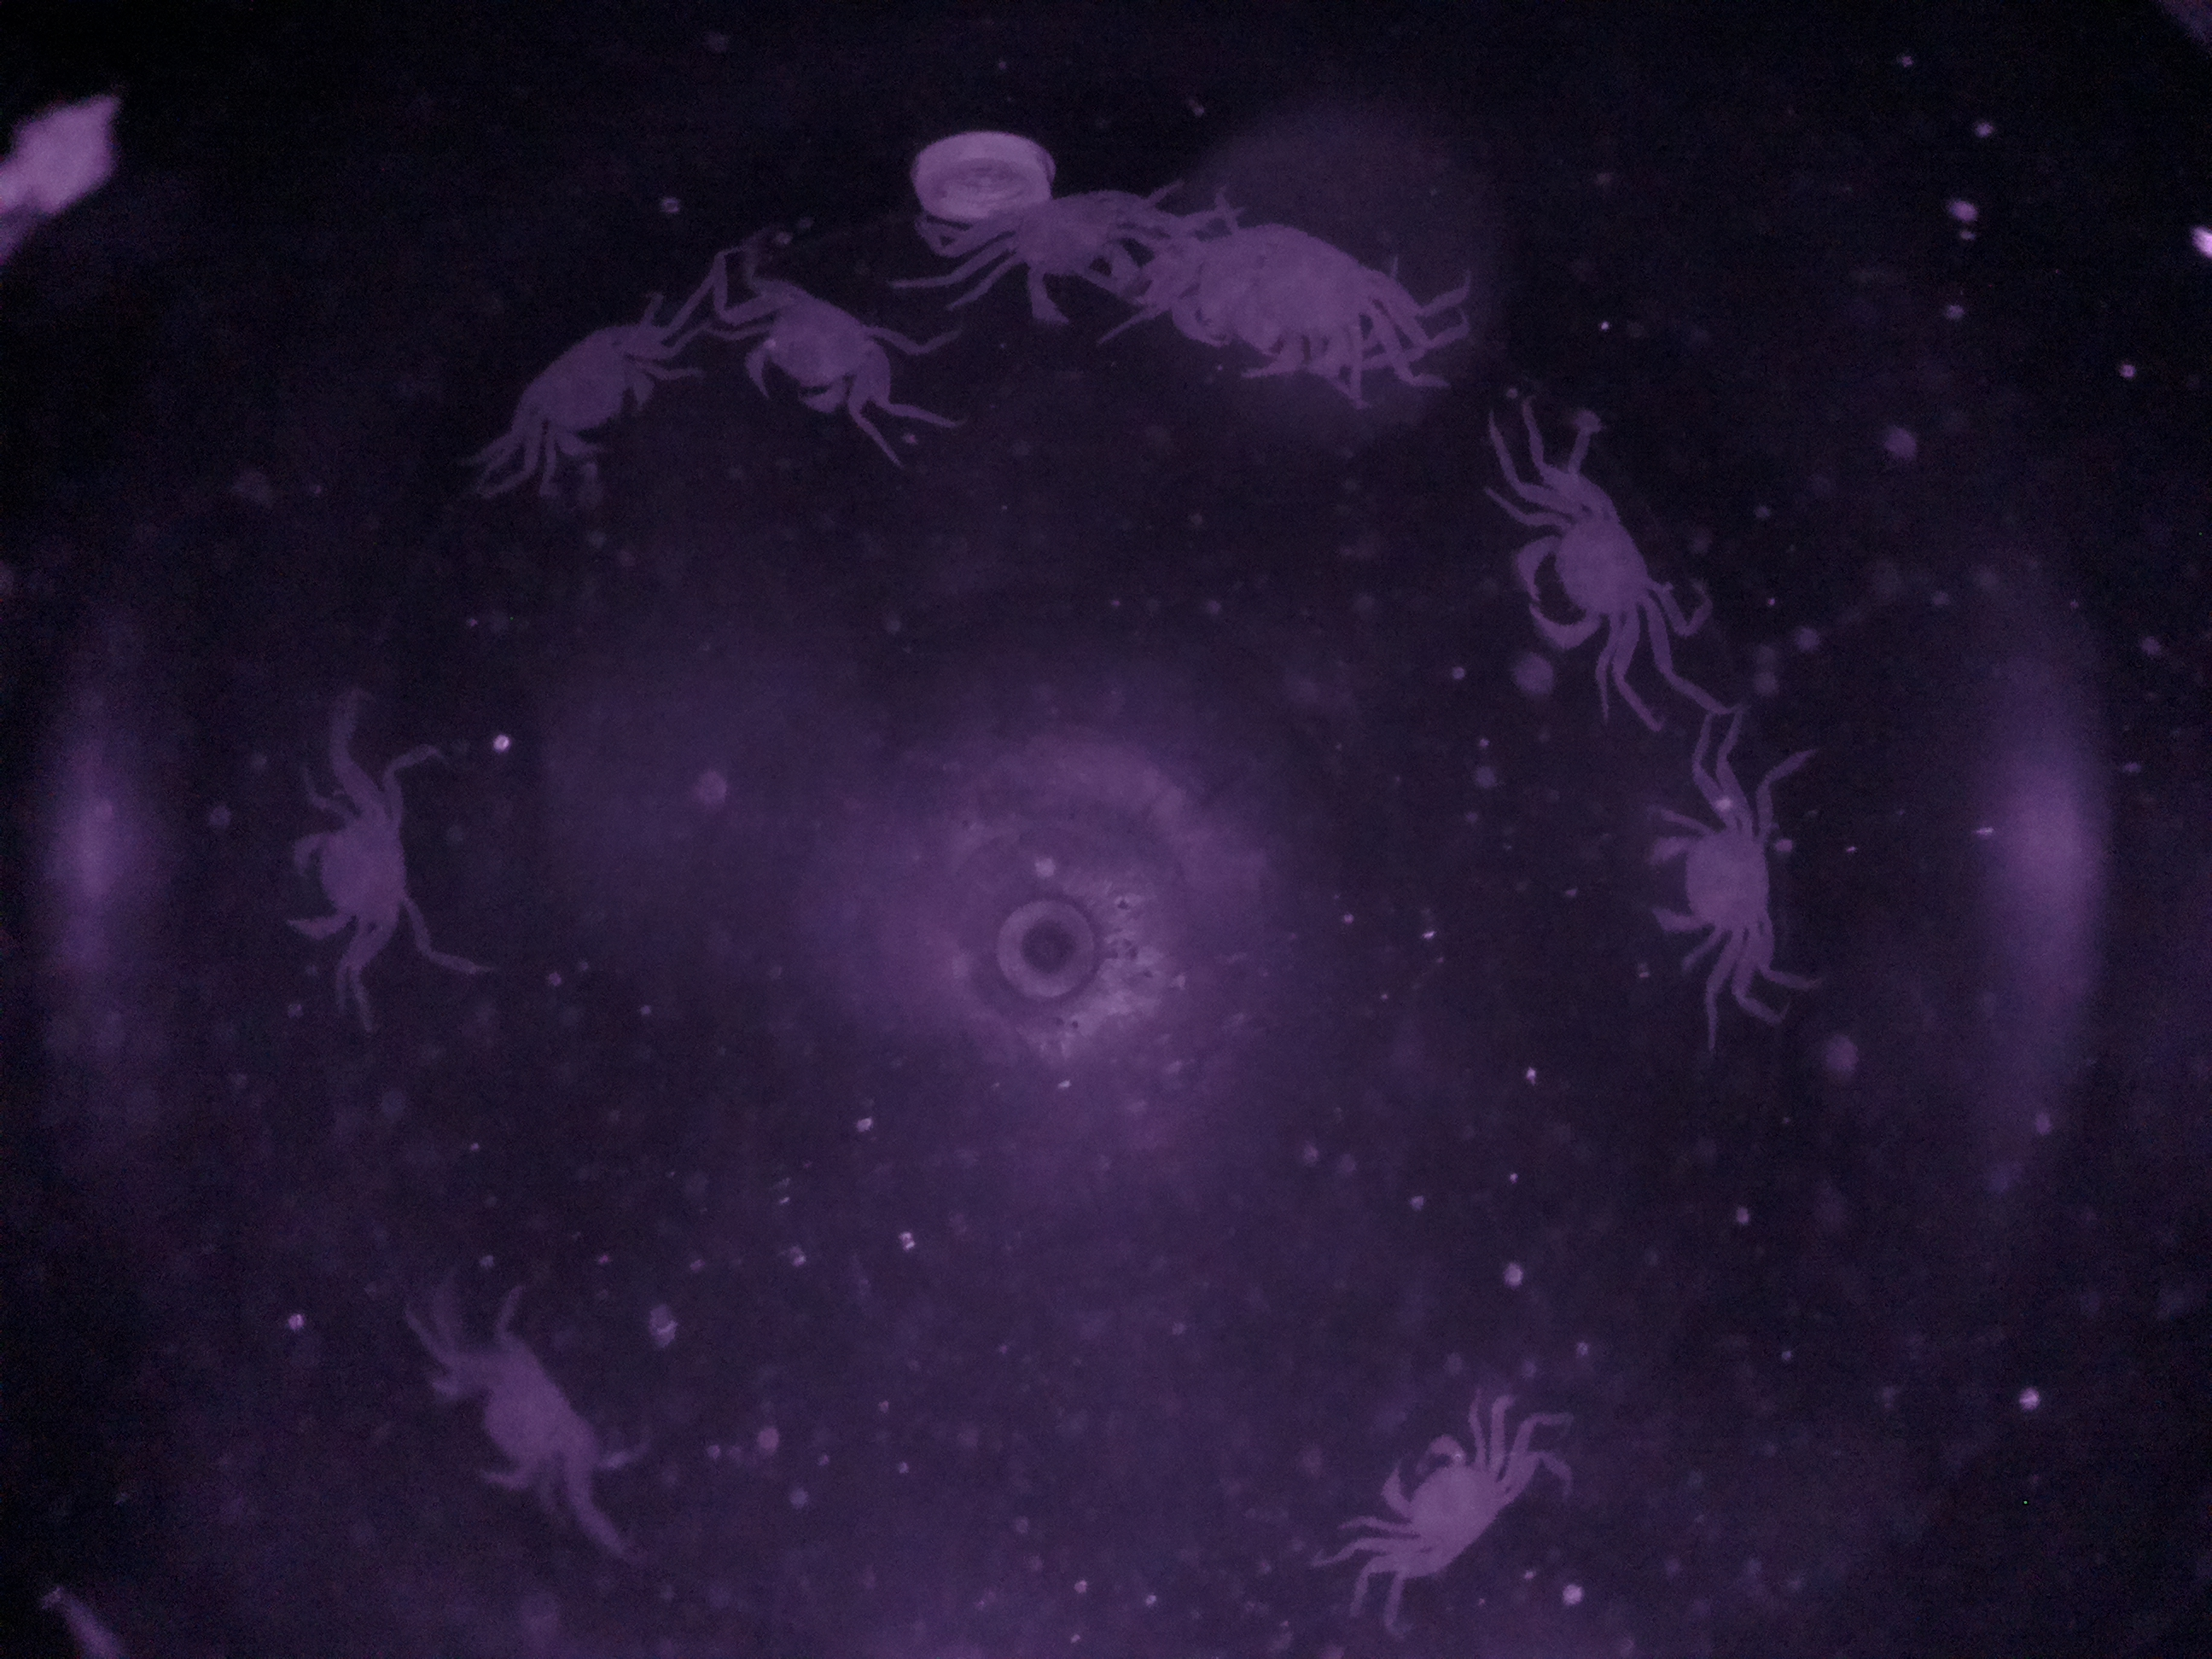Crab: (1496, 474, 1674, 692), (273, 765, 449, 965), (1345, 1405, 1526, 1596), (1637, 772, 1797, 986), (498, 298, 669, 484), (732, 275, 920, 437)
